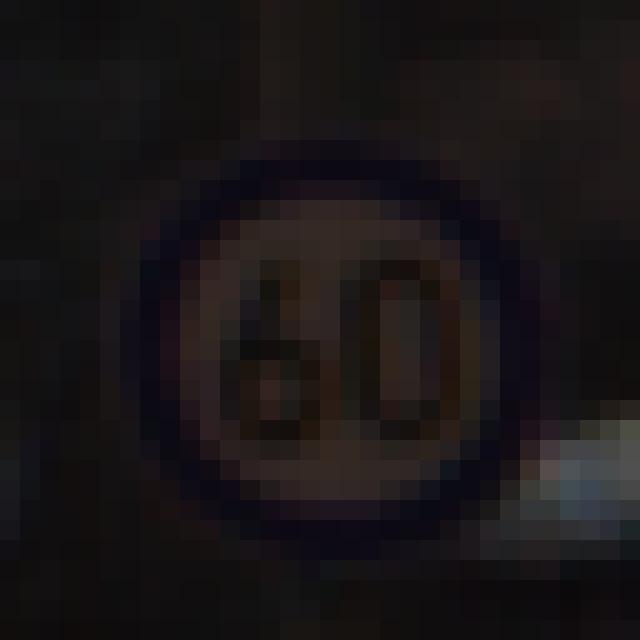SPEED-LIMIT-60: (119, 131, 538, 566)
